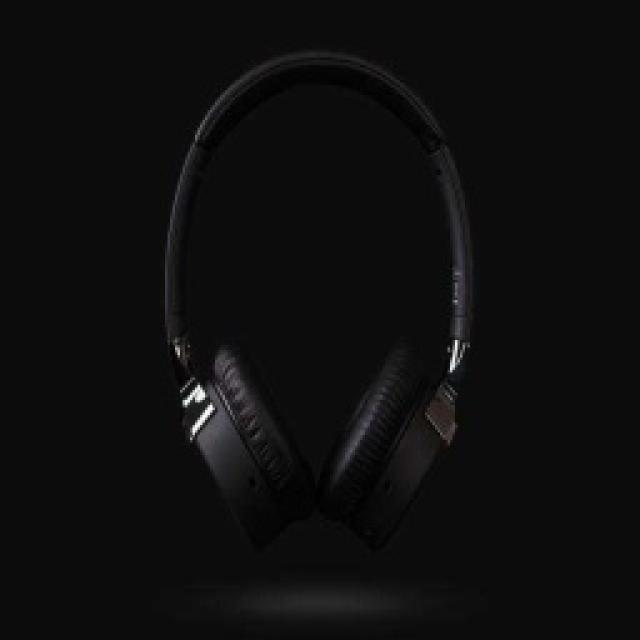headphones: (160, 48, 475, 552)
